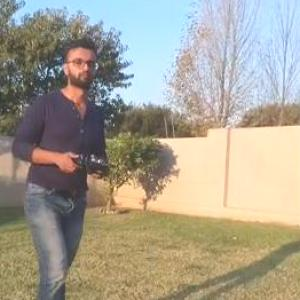follow: (0, 23, 110, 299)
